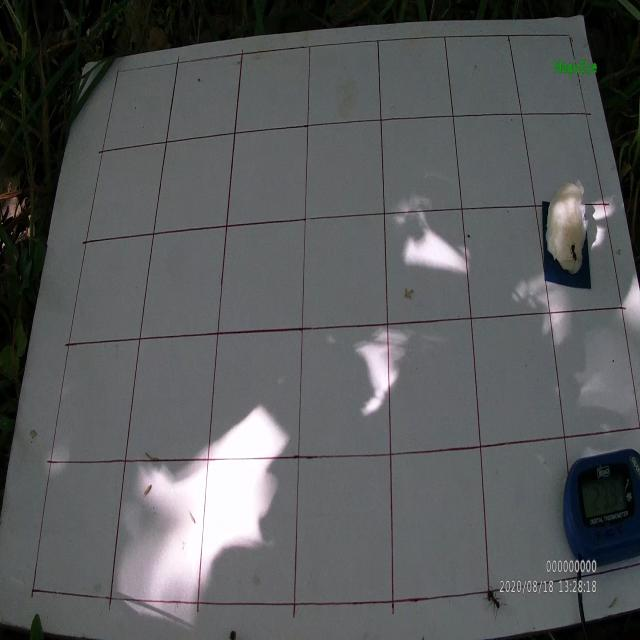Ant: (483, 584, 507, 621), (566, 236, 579, 264)
